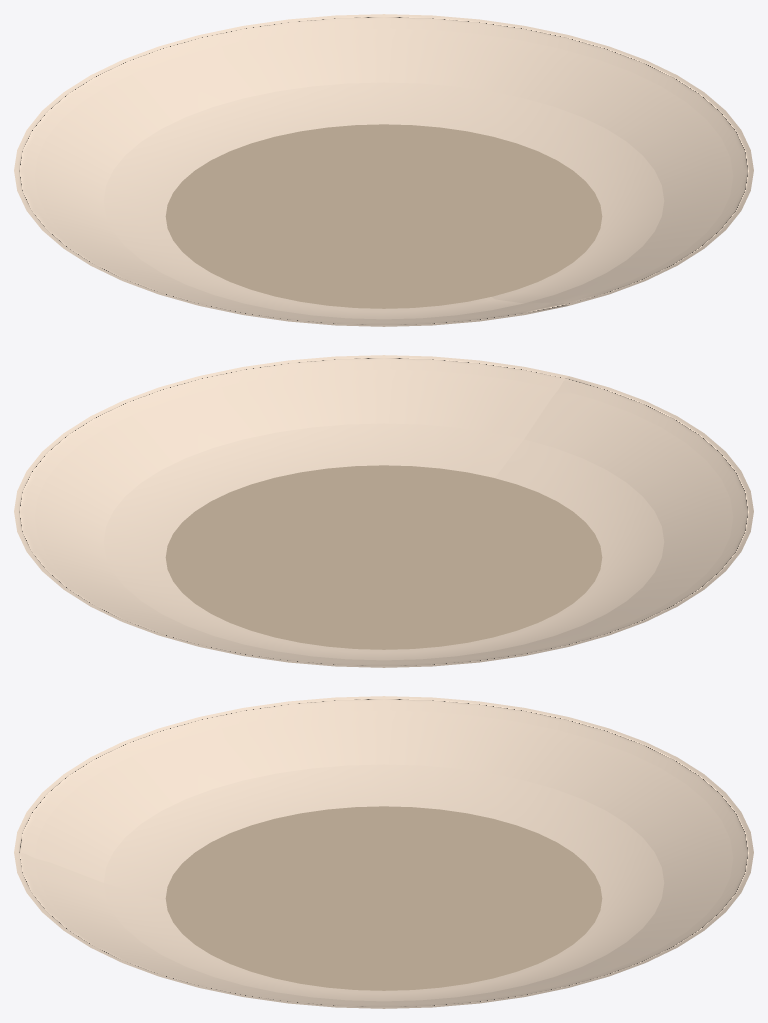
The model's file is EST-07.glb.
The picture shows the model from 3 angles, top to bottom: view 1: azimuth 30°, elevation 25°; view 2: azimuth 150°, elevation 25°; view 3: azimuth 270°, elevation 25°; orthographic projection.
Size of the model in its own units: 0.26 by 0.022 by 0.26.
